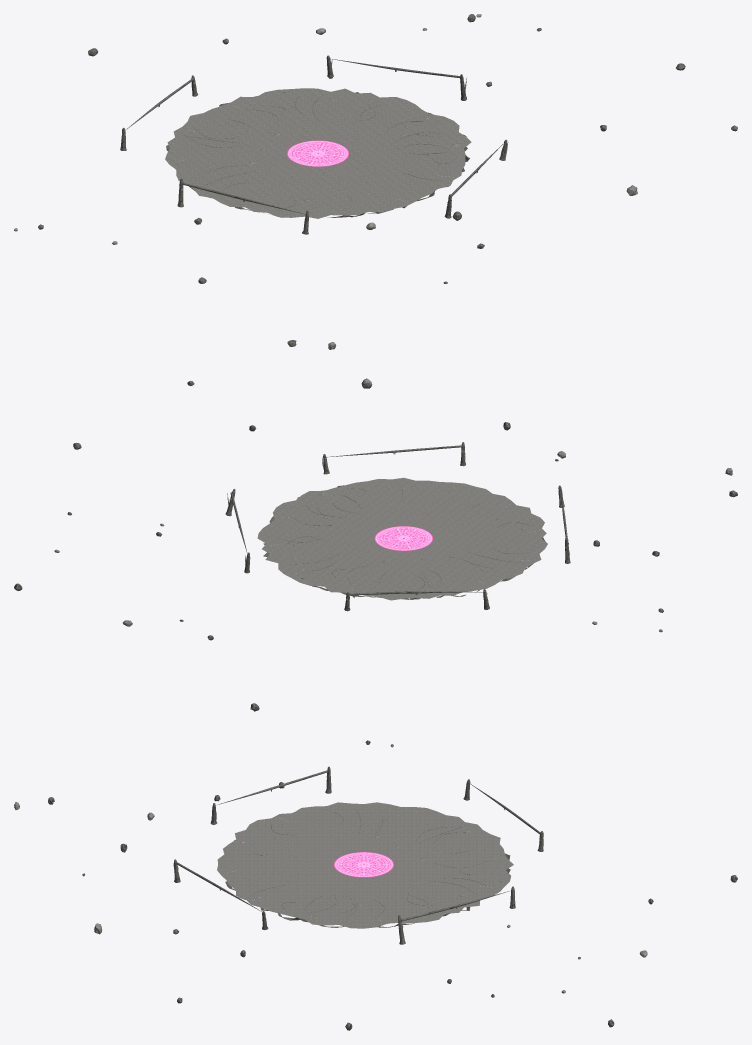
Rendered from arena.glb.
3 views of the same model, one above another, from view 1: azimuth 30°, elevation 25°; view 2: azimuth 150°, elevation 25°; view 3: azimuth 270°, elevation 25° (orthographic). The views are drawn at different scales.
Parts seen in each view (by area): view 1: Arena carved walkable stone, sigil; view 2: Arena carved walkable stone, sigil; view 3: Arena carved walkable stone, sigil.
Boxes of the visible parts, x1,y1,x2,y2 form: Arena carved walkable stone: (165, 88, 471, 218); sigil: (287, 140, 348, 166); Arena carved walkable stone: (257, 477, 547, 600); sigil: (374, 526, 432, 550); Arena carved walkable stone: (217, 802, 513, 928); sigil: (334, 852, 393, 877).
Size of the model in its own units: 134 by 13.92 by 134.
Materials: 4 (3 with a texture image).
